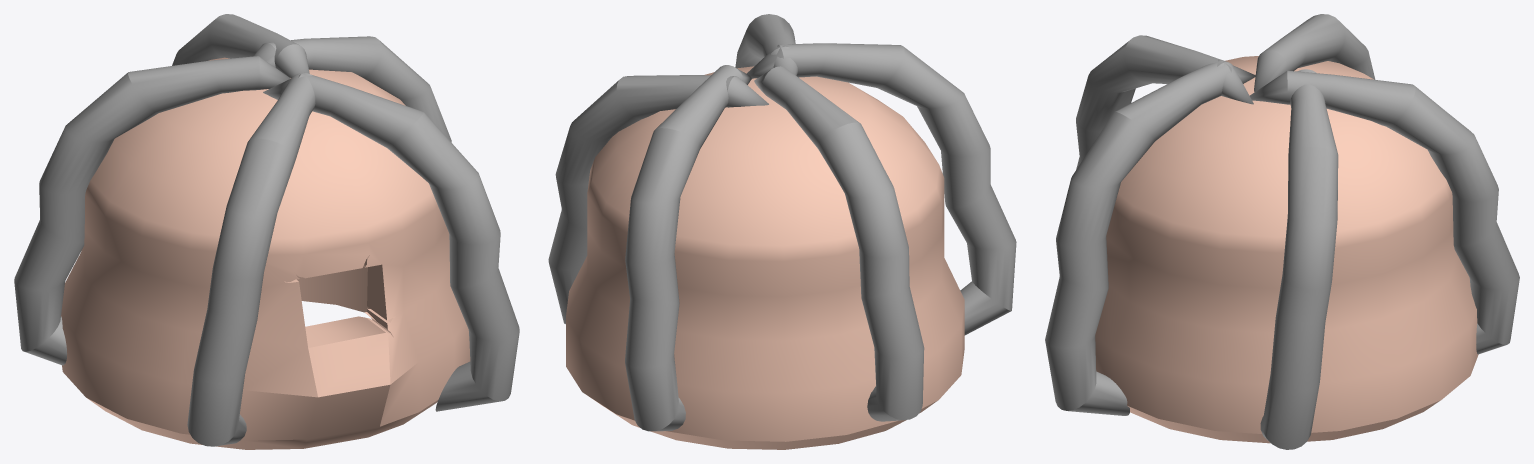
File: Mamahouse4.fbx
3 views of the same model, side by side, from view 1: azimuth 30°, elevation 25°; view 2: azimuth 150°, elevation 25°; view 3: azimuth 270°, elevation 25° (orthographic). The views are drawn at different scales.
Parts seen in each view (by area): view 1: House3; view 2: House3; view 3: House3.
Boxes of the visible parts, left/top/right/bottom form: House3: left=14, top=14, right=519, bottom=449; House3: left=548, top=14, right=1016, bottom=449; House3: left=1045, top=14, right=1519, bottom=449.
Bounding box in the file's own units: 65.18 × 48.9 × 65.81.
